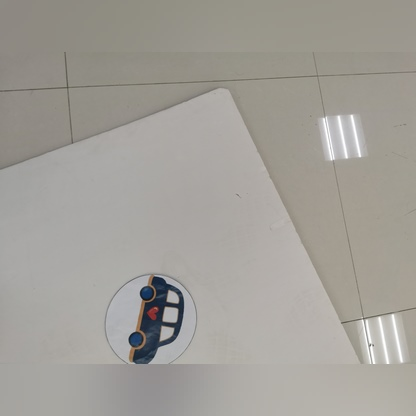car: (118, 266, 201, 360)
